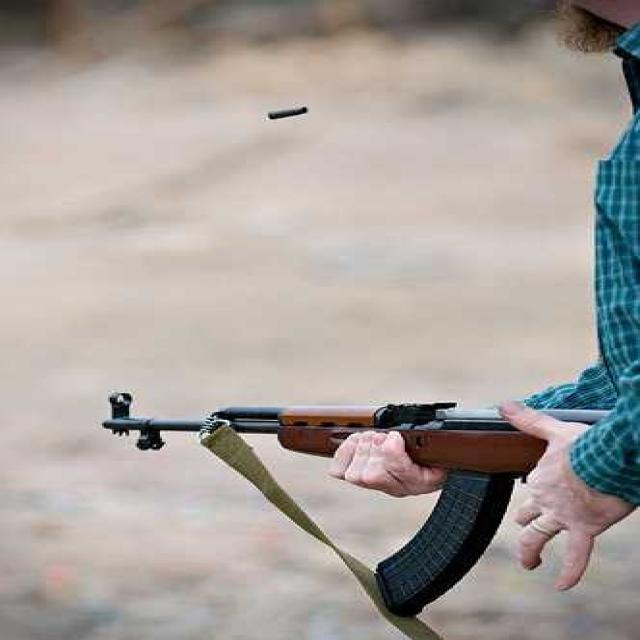heavyweapon: (71, 390, 632, 613)
